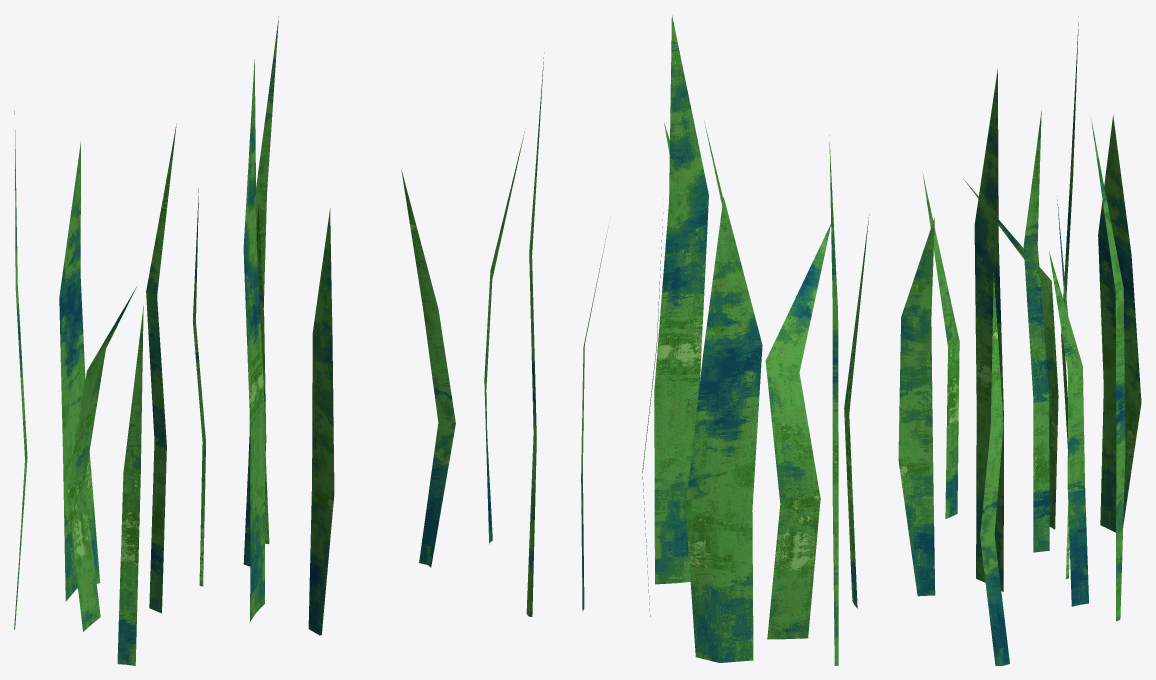
File: Grass.fbx
The picture shows the model from 3 angles, left to right: view 1: azimuth 30°, elevation 25°; view 2: azimuth 150°, elevation 25°; view 3: azimuth 270°, elevation 25°; orthographic projection. The views are drawn at different scales.
Parts seen in each view (by area): view 1: transform1; view 2: transform1; view 3: transform1.
Boxes of the visible parts, x1,y1,x2,y2 form: transform1: (14,16,455,665); transform1: (484,15,869,665); transform1: (898,16,1141,665).
Bounding box in the file's own units: 20.88 × 28.2 × 11.99.
